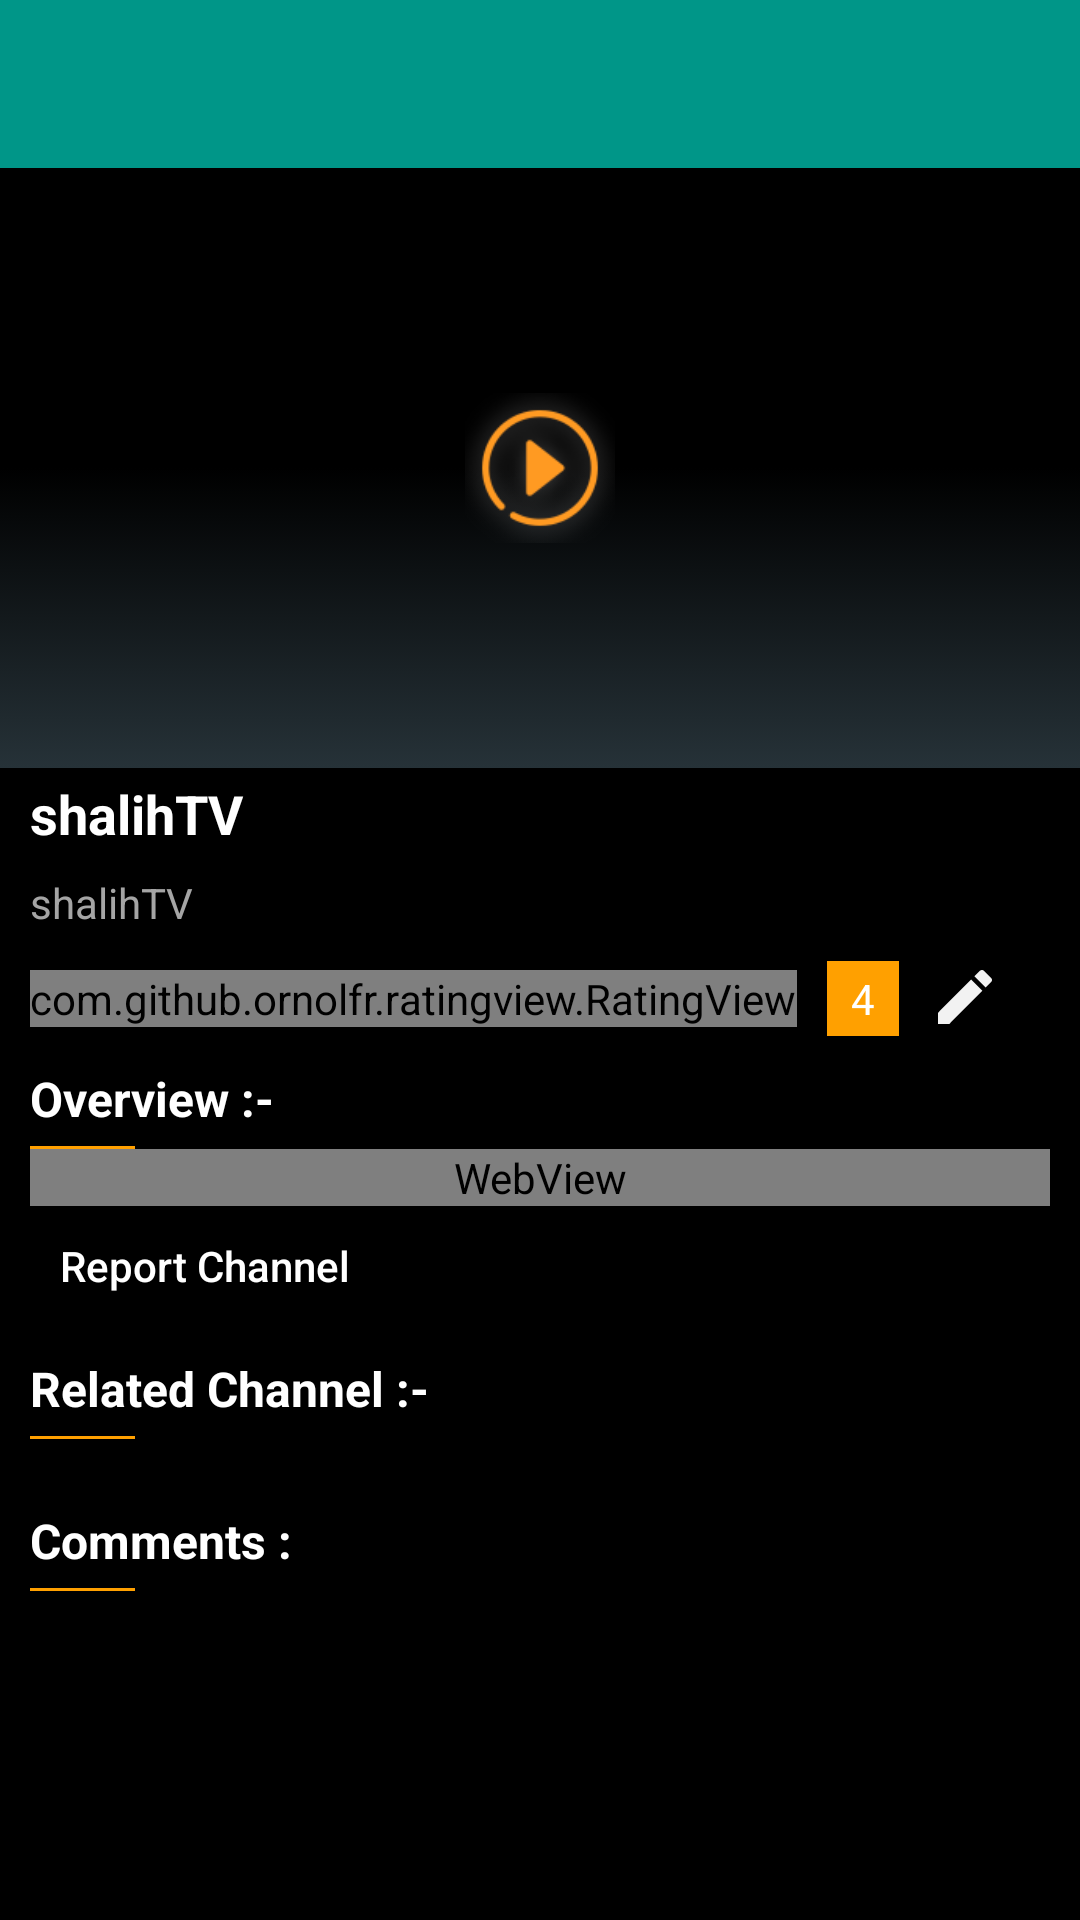

Screen size 1080×1920. Icon name, then its center in pixels as [x,y]:
edit: [965,997]
play: [540,470]
